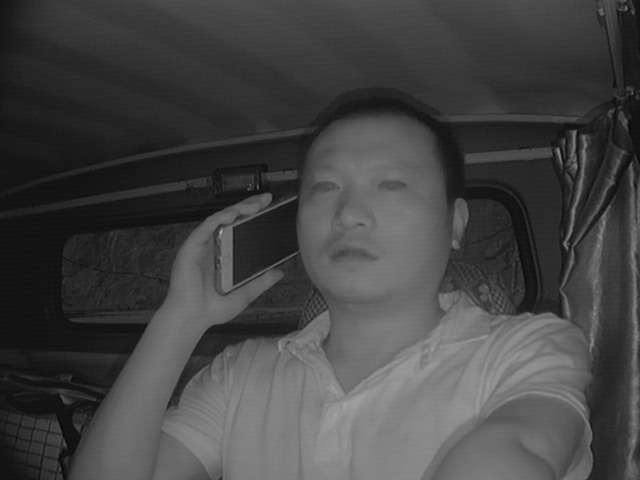hand: (166, 193, 287, 328)
